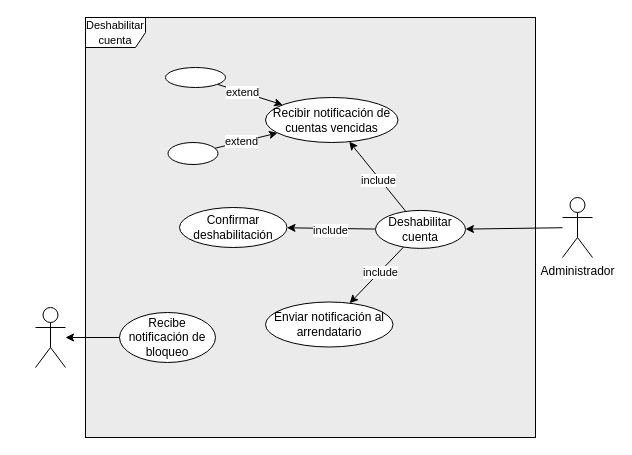
This 632x455 diagram has some shape labels left out. Here are the shapes that lost their labels. From the top down, the box of each, then its label:
(164, 66, 226, 88): aplicativo
(167, 142, 218, 164): correo
(34, 306, 66, 368): Arrendatario
